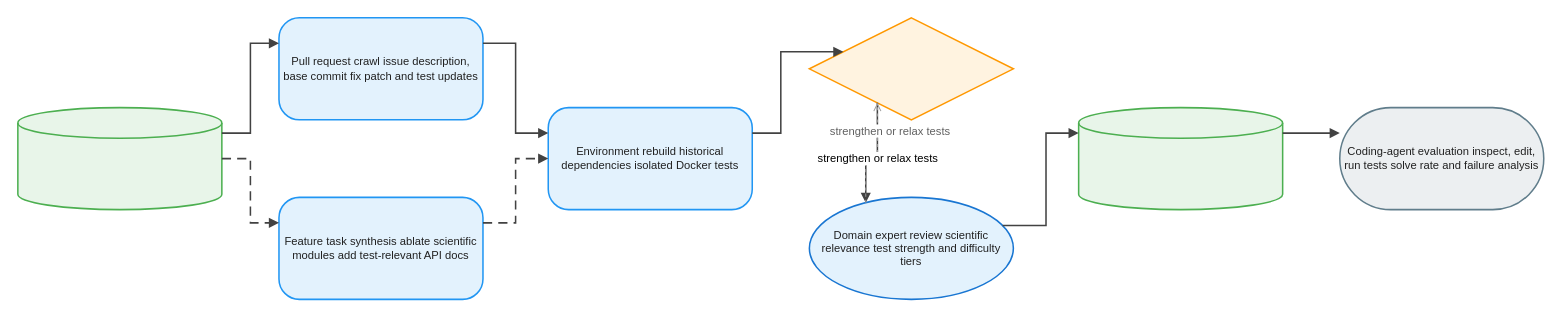
Image size: 1563x318. Some labels were removed from this diagram. The centre of each missing label's shape, as x and y in pixels:
"AInsteinBench tasks 244 problems real PRs plus feature implementations" goes at point 1180,158.
"Fail-to-pass filtering base pass, patched fail fixed patch pass" goes at point 911,68.
"Scientific repositories PySCF, Qiskit, RDKit AMReX, OpenMM, Einstein Toolkit" goes at point 119,158.
